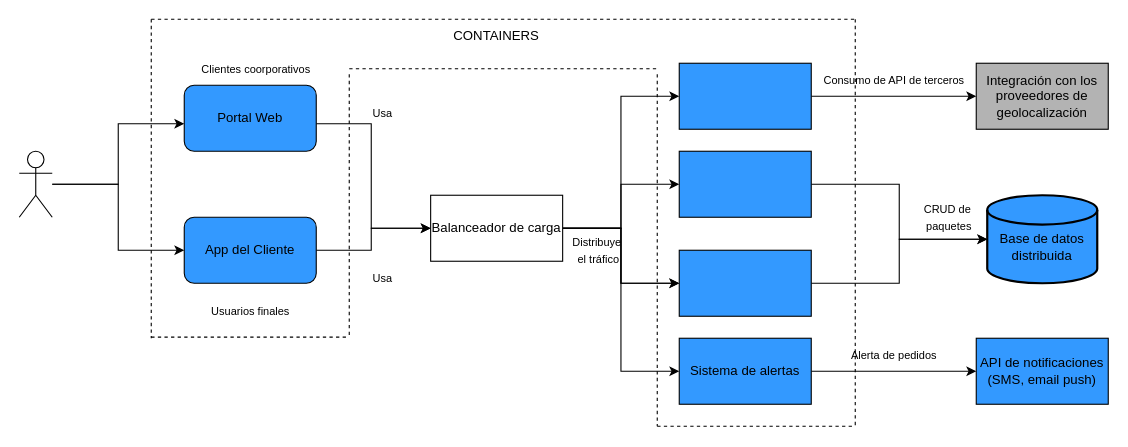
This 1128x447 diagram has some shape labels left out. Here are the shapes that lost their labels. From the top down, the centre of each, then its label:
At point (744, 95): "Motor de rutas".
At point (35, 183): "Actor".
At point (744, 183): "Módulo gestión de paquetes".
At point (744, 282): "Seguiemiento GPS".
